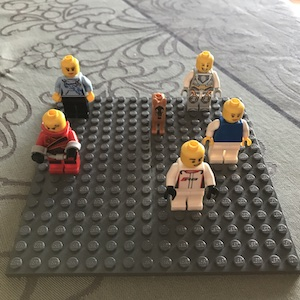Lego: (164, 139, 218, 214), (201, 98, 251, 166), (32, 107, 81, 176), (52, 54, 94, 121), (179, 50, 222, 115)
